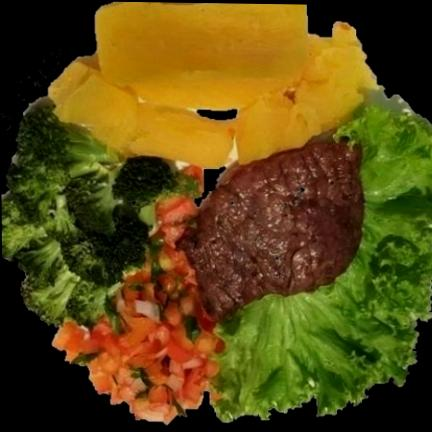broccoli: (1, 105, 201, 329)
cassava: (49, 2, 377, 169)
meat: (181, 141, 367, 320)
salad: (219, 87, 432, 419)
tomato: (52, 200, 218, 423)
